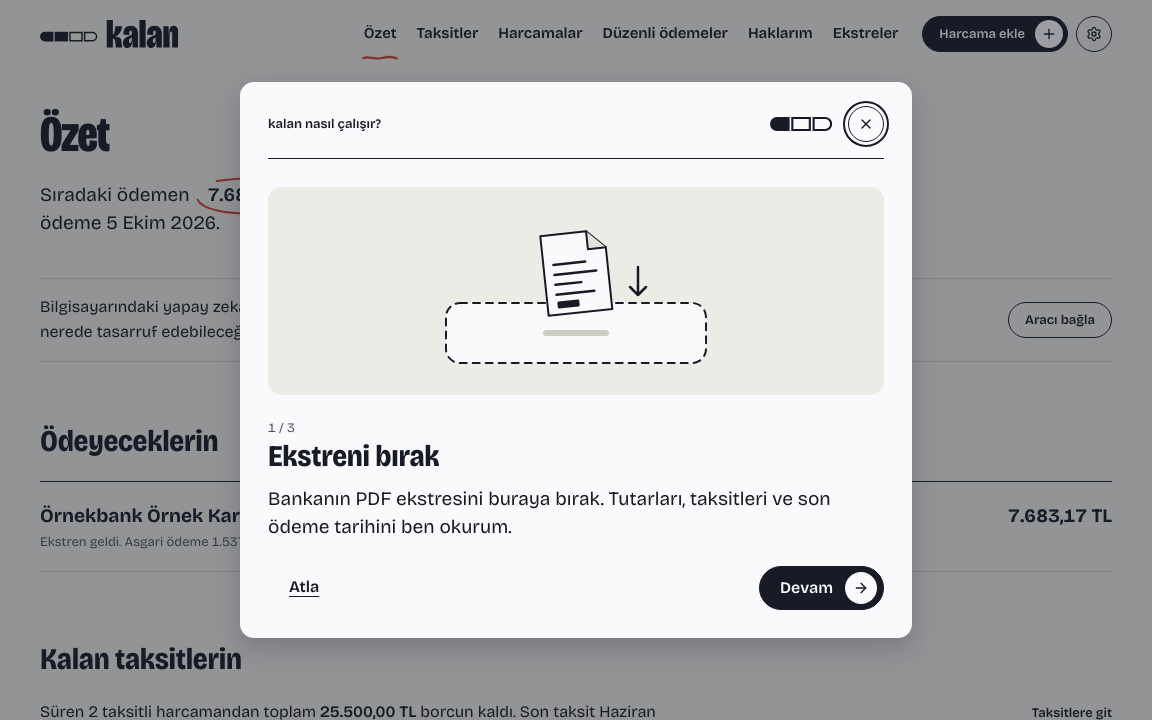
Test: first-run tour › can be skipped, stays closed afterwards and opens again from "Nasıl çalışır?"
Click the button named "Atla".
click(866, 124)  # box x1=848 y1=106 x2=884 y2=142
(page scrolled)
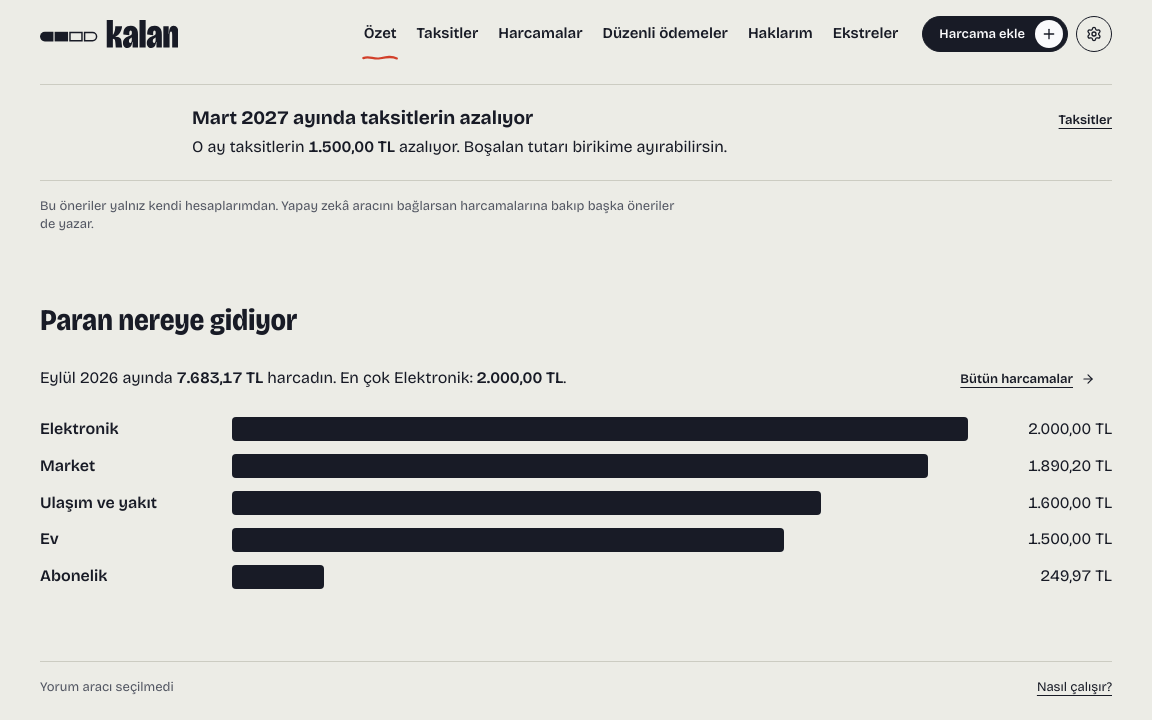
Result: the heading "Ekstreni bırak" is gone
Click the button "Nasıl çalışır?".
click(1074, 687)  # box x1=1037 y1=678 x2=1112 y2=696
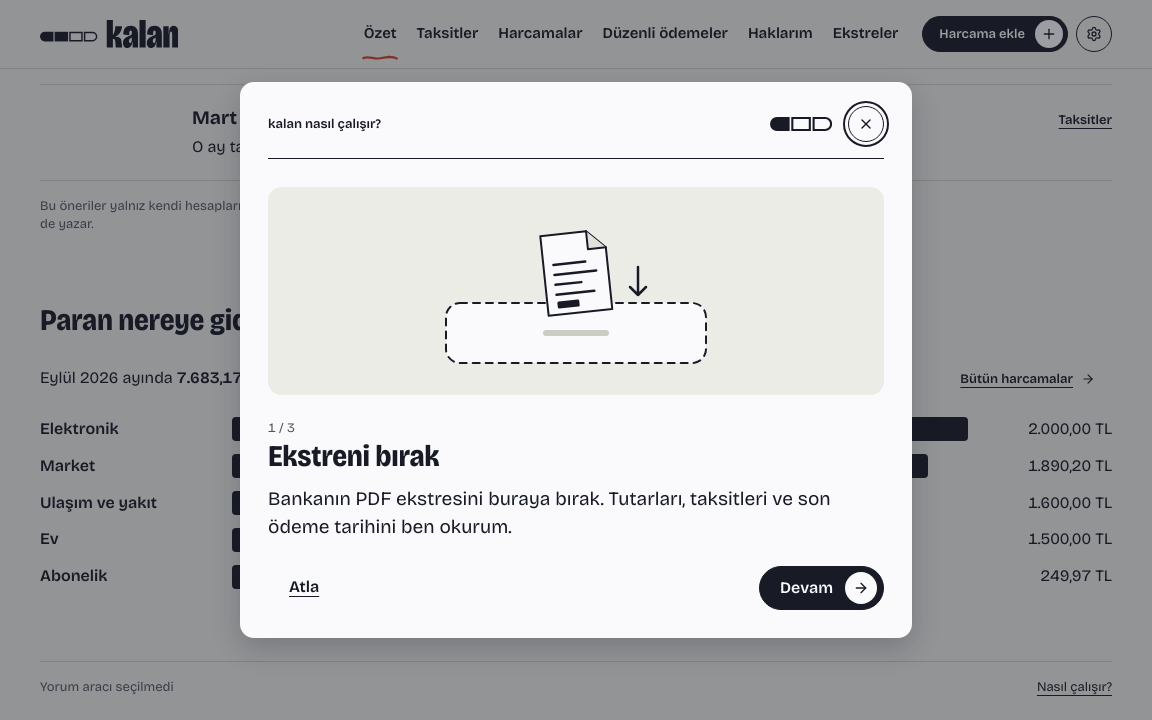
Click the button "Devam Devam".
click(822, 588)  # box x1=759 y1=566 x2=884 y2=610
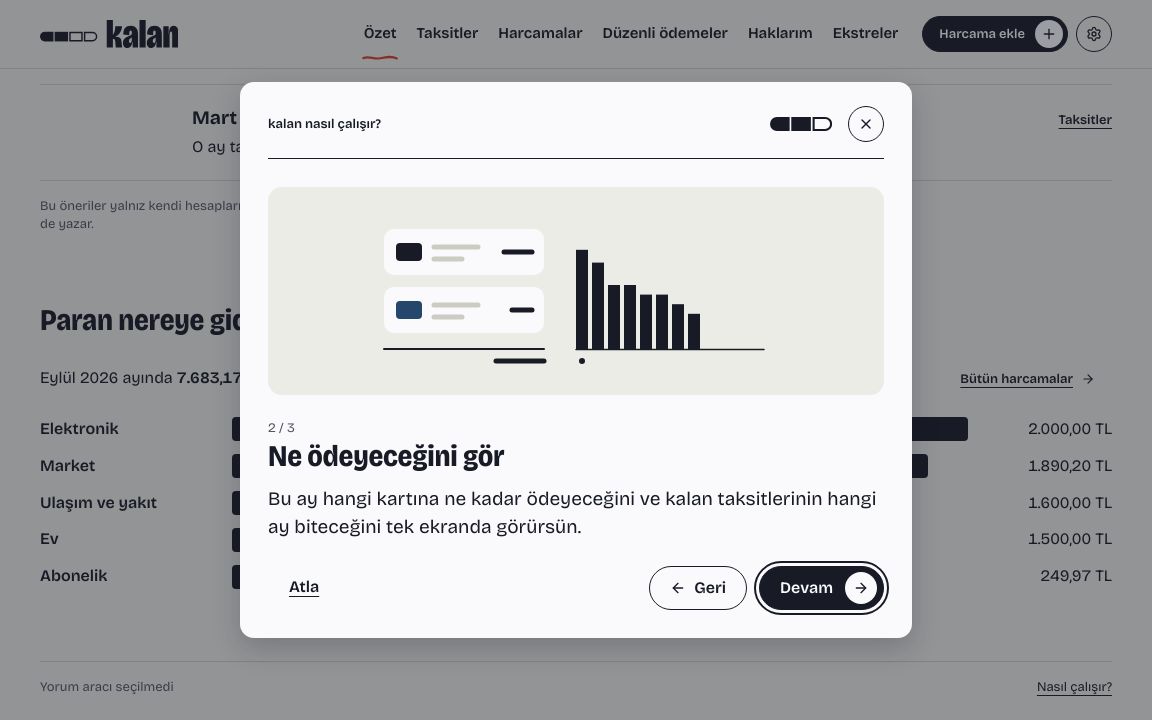
Click the button "Geri Geri".
click(698, 588)  # box x1=649 y1=566 x2=747 y2=610
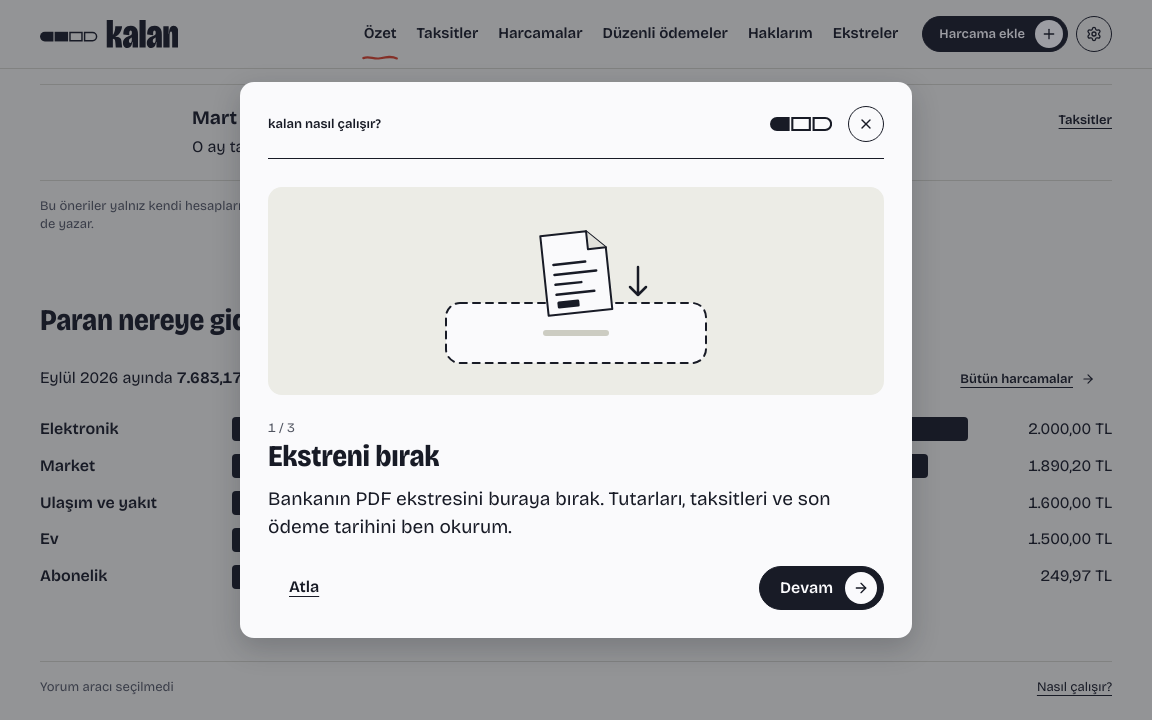
Result: the dialog "Ekstreni bırak" is shown at x1=240 y1=82 x2=912 y2=638
